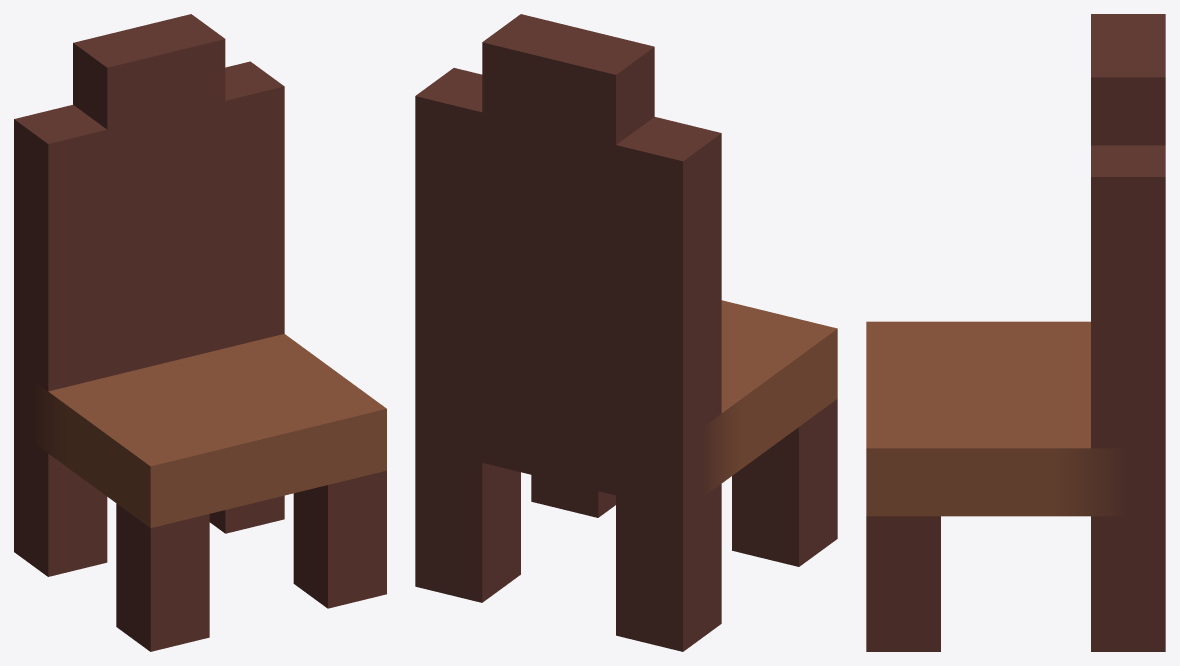
The model's file is chair.fbx.
3 renders of one model, left to right at view 1: azimuth 30°, elevation 25°; view 2: azimuth 150°, elevation 25°; view 3: azimuth 270°, elevation 25°, orthographic. The views are drawn at different scales.
Visible parts, largest first — view 1: chair; view 2: chair; view 3: chair.
Part boxes in pixels (left/top/right/bottom): chair: left=14, top=14, right=386, bottom=651; chair: left=415, top=14, right=837, bottom=651; chair: left=866, top=14, right=1165, bottom=651.
Bounding box in the file's own units: 4 × 8 × 4.
